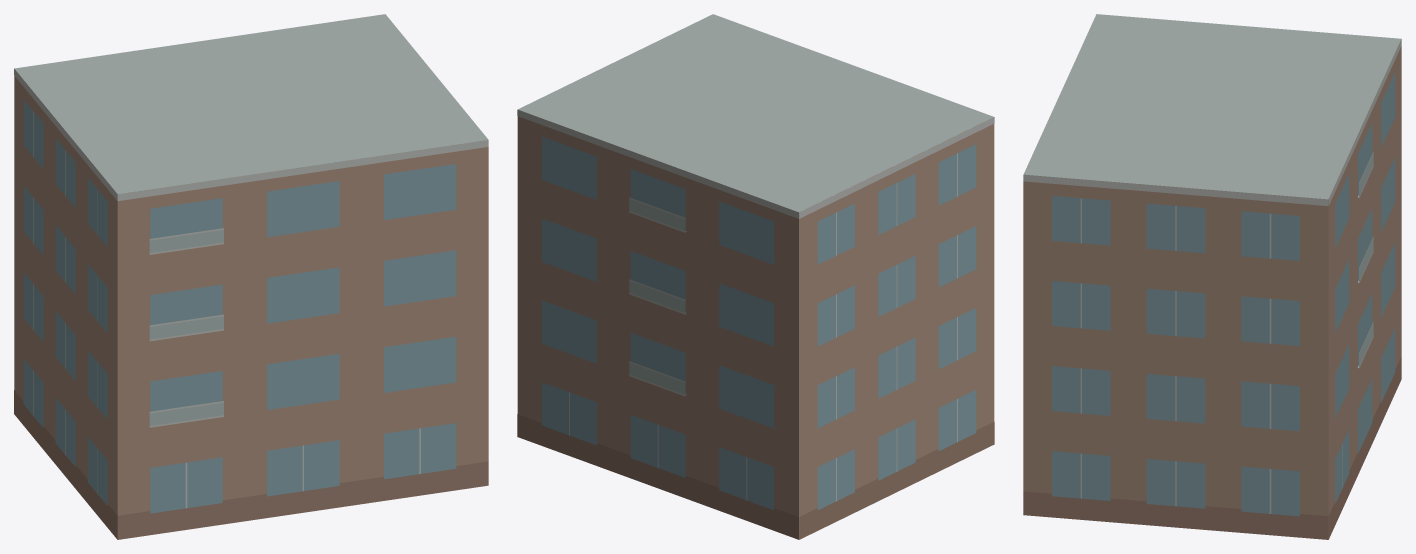
The model's file is residential-4348d735-33e7-4105-9b65-c1b22f29e95d.glb.
3 views of the same model, side by side, from view 1: azimuth 30°, elevation 25°; view 2: azimuth 150°, elevation 25°; view 3: azimuth 270°, elevation 25° (orthographic). The views are drawn at different scales.
Visible parts, largest first — view 1: residential-4348d735-33e7-4105-9b65-c1b22f29e95d.tmp; view 2: residential-4348d735-33e7-4105-9b65-c1b22f29e95d.tmp; view 3: residential-4348d735-33e7-4105-9b65-c1b22f29e95d.tmp.
Part boxes in pixels (box(x1,y1,x2,y2)): residential-4348d735-33e7-4105-9b65-c1b22f29e95d.tmp: box(14, 14, 488, 539); residential-4348d735-33e7-4105-9b65-c1b22f29e95d.tmp: box(517, 14, 994, 539); residential-4348d735-33e7-4105-9b65-c1b22f29e95d.tmp: box(1023, 14, 1401, 539).
Size of the model in its own units: 14.26 by 12.2 by 12.29.
